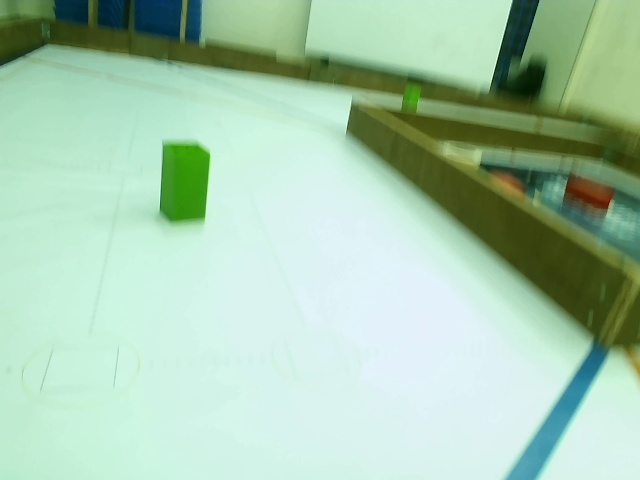green: (162, 144, 208, 222)
